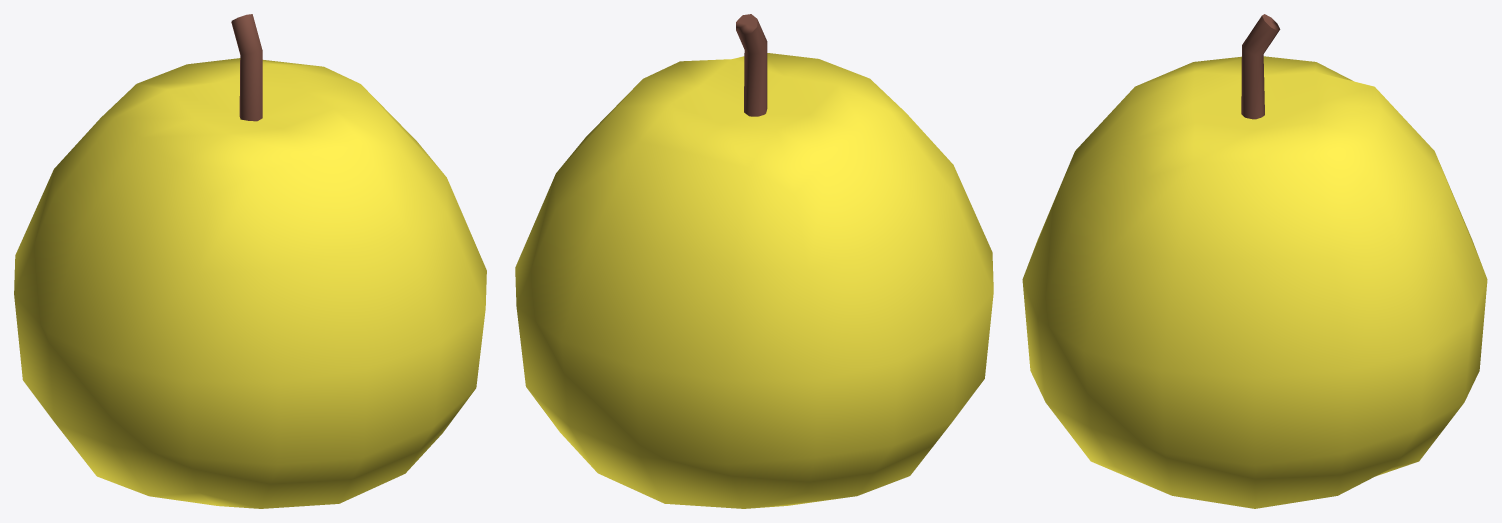
File: Store_10_Apple_2.glb
3 renders of one model, left to right at view 1: azimuth 30°, elevation 25°; view 2: azimuth 150°, elevation 25°; view 3: azimuth 270°, elevation 25°, orthographic.
Visible parts, largest first — view 1: Store_10_Apple_2; view 2: Store_10_Apple_2; view 3: Store_10_Apple_2.
Boxes of the visible parts, box(x1,y1,x2,y2) form: Store_10_Apple_2: box(14, 14, 486, 508); Store_10_Apple_2: box(515, 14, 993, 508); Store_10_Apple_2: box(1022, 14, 1487, 508).
Size of the model in its own units: 0.2435 by 0.2516 by 0.2435.
1 material, 1 textured.
